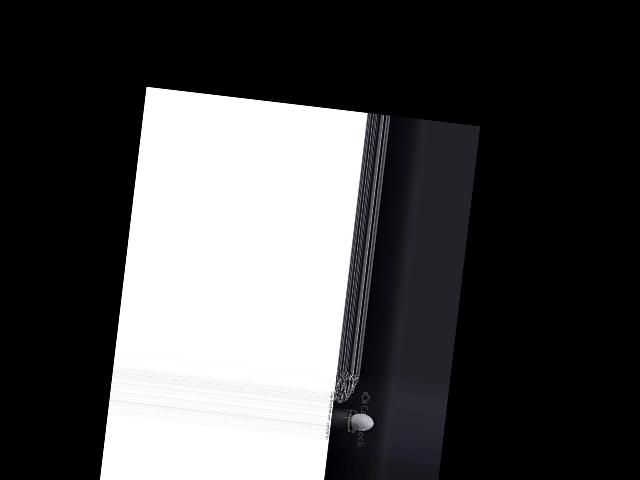egg: (348, 412, 374, 432)
